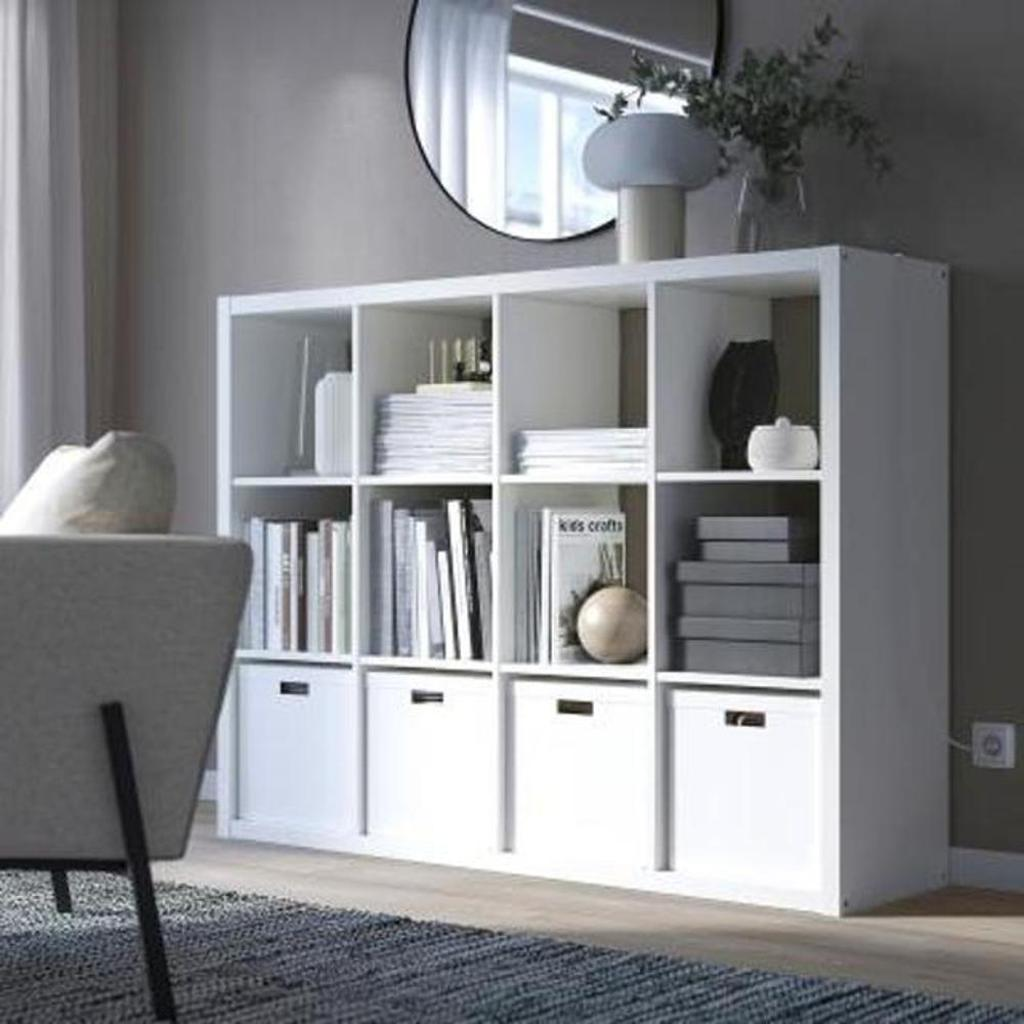lamp: (215, 242, 957, 922)
